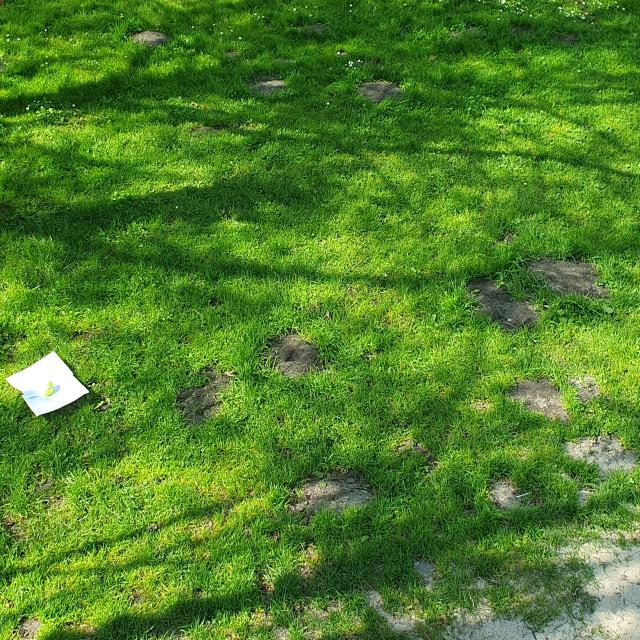green: (42, 380, 54, 396)
